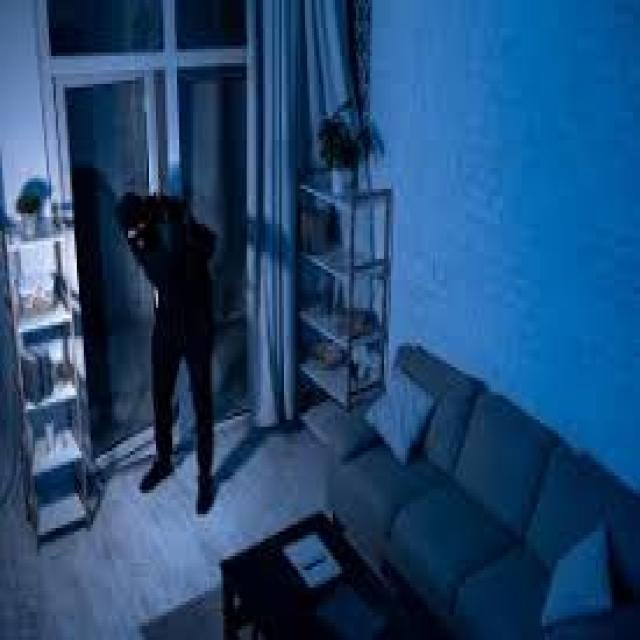intrusion detected: (111, 188, 225, 522)
